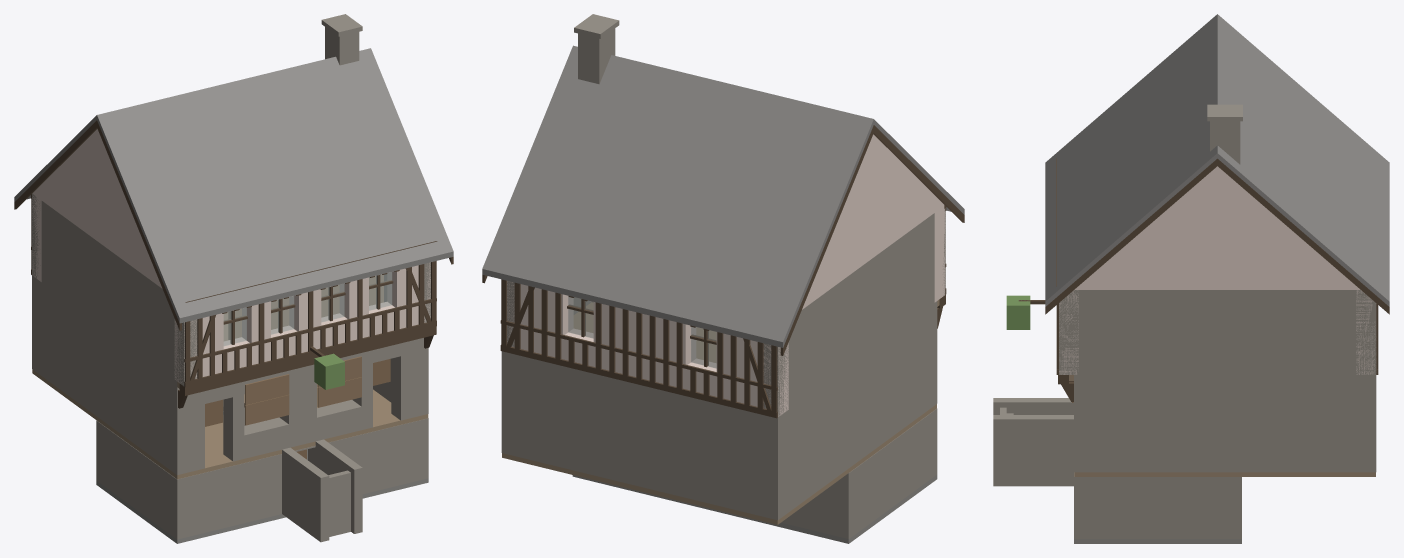
Rendered from inn-b.glb.
3 renders of one model, left to right at view 1: azimuth 30°, elevation 25°; view 2: azimuth 150°, elevation 25°; view 3: azimuth 270°, elevation 25°, orthographic. The views are drawn at different scales.
Visible parts, largest first — view 1: stone, roof, render, timber, floor, glass, flags, plank, inn-b-shutter-01 leaf, green, inn-b-shutter-02 leaf, inn-b-shutter-04 leaf; view 2: roof, stone, render, timber, floor, glass, flags; view 3: stone, roof, render, timber, floor, green, flags.
Boxes of the visible parts, <box> form: stone: <box>32,14,430,542</box>; roof: <box>14,48,453,323</box>; render: <box>32,129,430,384</box>; timber: <box>14,120,453,408</box>; floor: <box>32,312,428,479</box>; glass: <box>223,272,392,346</box>; flags: <box>96,449,428,543</box>; plank: <box>228,274,383,339</box>; inn-b-shutter-01 leaf: <box>245,374,289,404</box>; green: <box>314,353,344,389</box>; inn-b-shutter-02 leaf: <box>245,395,289,425</box>; inn-b-shutter-04 leaf: <box>317,377,361,407</box>; roof: <box>482,45,964,347</box>; stone: <box>501,14,945,538</box>; render: <box>507,134,945,416</box>; timber: <box>482,125,964,418</box>; floor: <box>502,299,939,524</box>; glass: <box>568,296,716,368</box>; flags: <box>572,474,937,543</box>; stone: <box>993,104,1376,539</box>; roof: <box>1045,14,1389,306</box>; render: <box>1059,166,1375,374</box>; timber: <box>1018,158,1389,401</box>; floor: <box>1069,375,1375,476</box>; green: <box>1006,295,1030,329</box>; flags: <box>1074,539,1241,543</box>.
Size of the model in its own units: 9.8 by 14 by 11.8.
